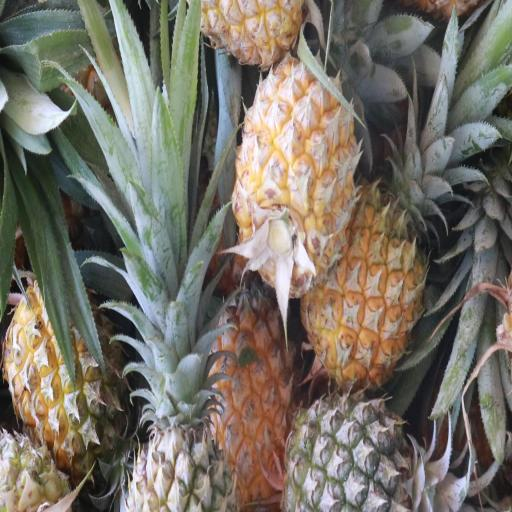------------------------------: (6, 279, 126, 471)
Pineapple - v8 v1: (236, 54, 356, 291), (304, 183, 424, 383), (207, 263, 296, 490)
